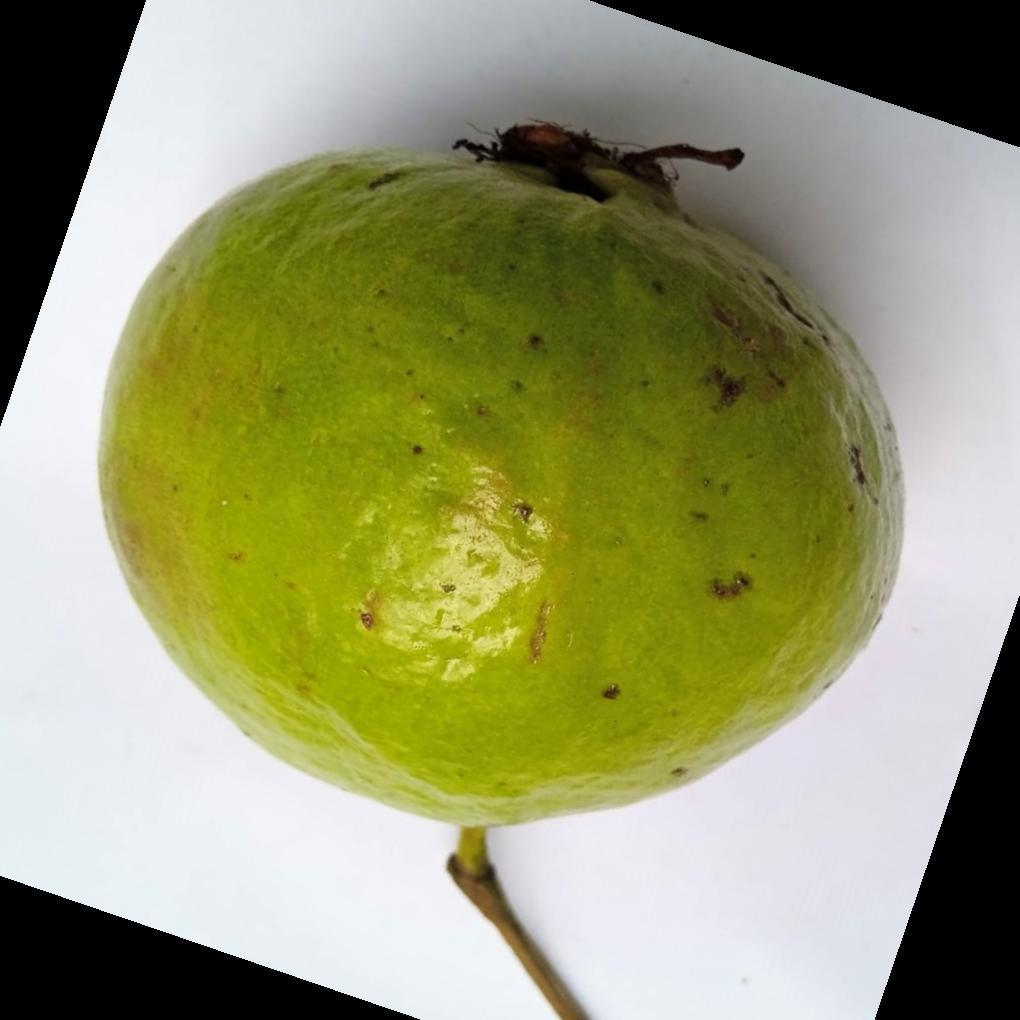FreshGuava: (96, 126, 905, 835)
